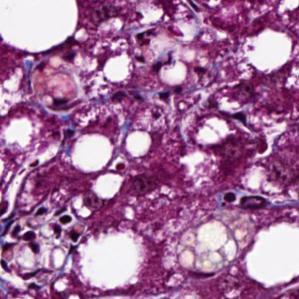inflammation: (4, 202, 80, 256), (119, 26, 176, 68), (219, 182, 274, 220)
